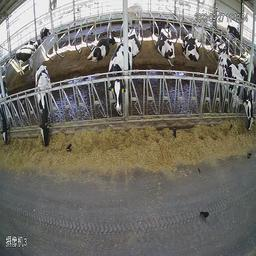cow: (219, 49, 251, 115), (106, 39, 137, 104), (237, 65, 255, 134), (35, 65, 49, 149), (87, 33, 116, 62), (17, 38, 38, 77), (155, 26, 173, 60), (121, 2, 143, 27), (0, 82, 8, 145), (182, 33, 199, 61), (241, 46, 255, 71), (127, 28, 140, 54), (149, 16, 166, 35), (193, 24, 207, 43), (227, 23, 240, 42), (212, 34, 225, 49), (40, 26, 51, 41)
